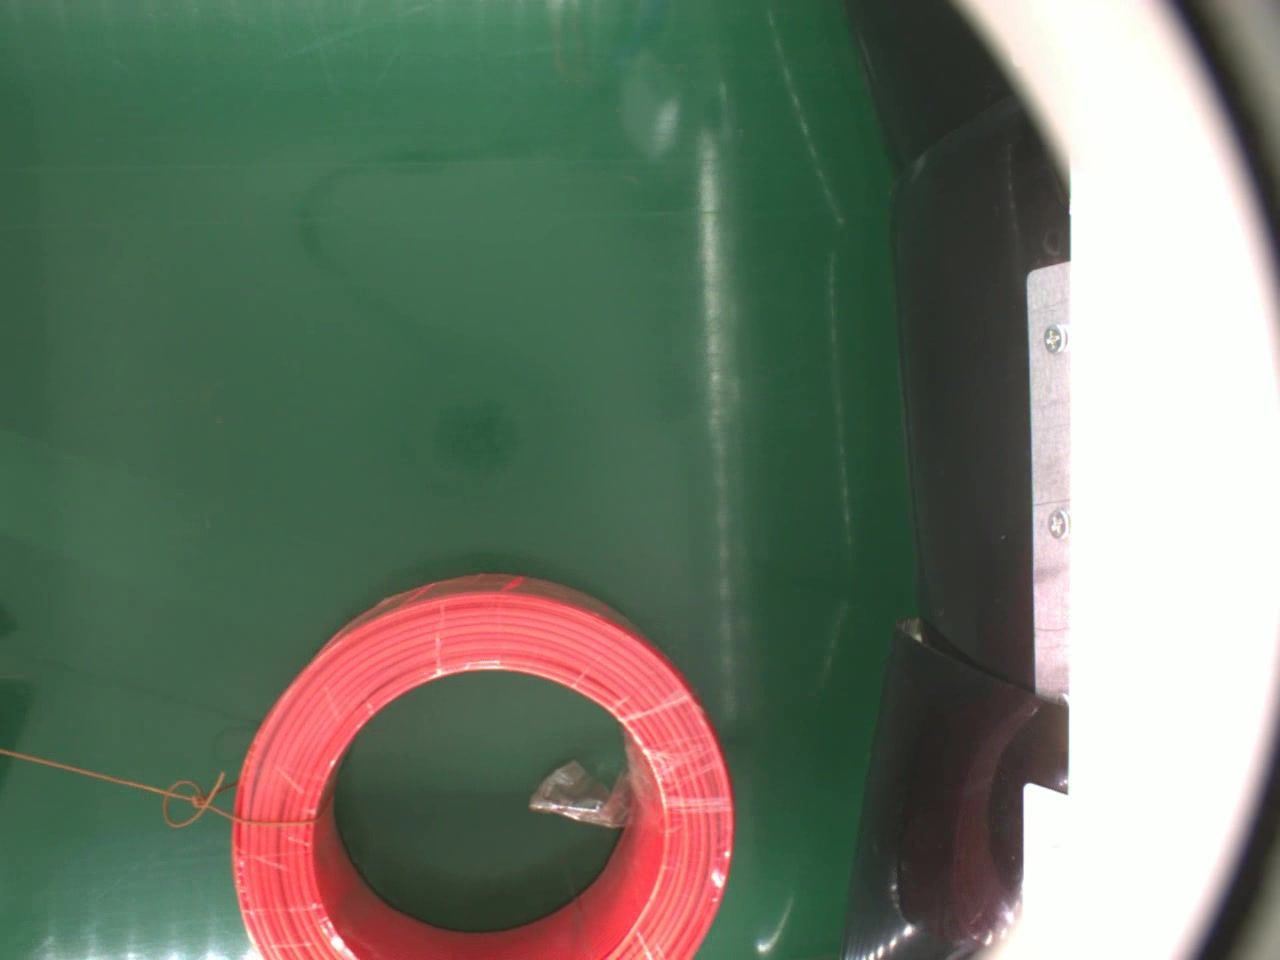red: (228, 570, 738, 960)
